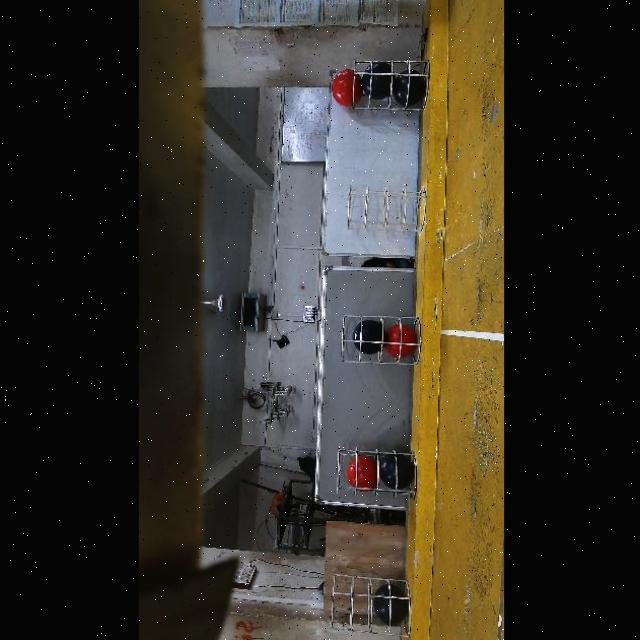P: (372, 583, 408, 625), (390, 68, 425, 107), (378, 456, 414, 490), (361, 63, 393, 101), (350, 320, 383, 354)
R: (330, 72, 362, 107), (344, 457, 378, 489), (383, 325, 415, 358)
S: (327, 574, 413, 638), (334, 314, 424, 371), (335, 452, 417, 506), (349, 55, 416, 118), (347, 182, 423, 234)
